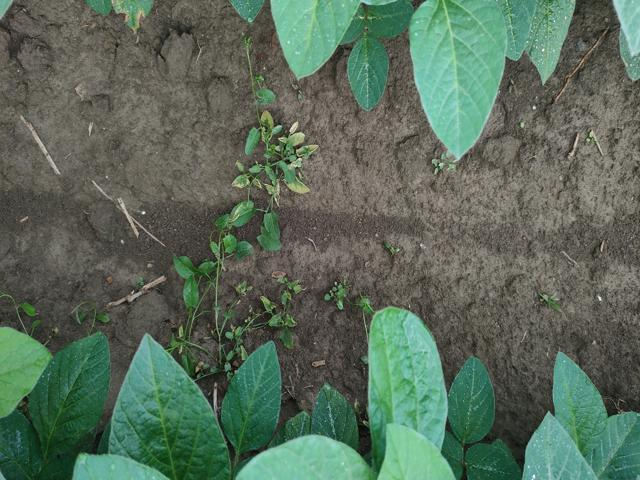bad weed: (118, 40, 324, 385), (65, 298, 114, 332), (327, 282, 352, 309), (535, 293, 565, 314), (355, 295, 375, 317), (380, 241, 402, 259)
